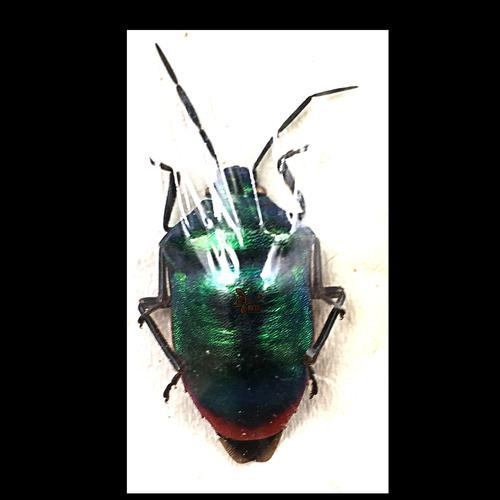chunchong: (125, 151, 358, 473)
